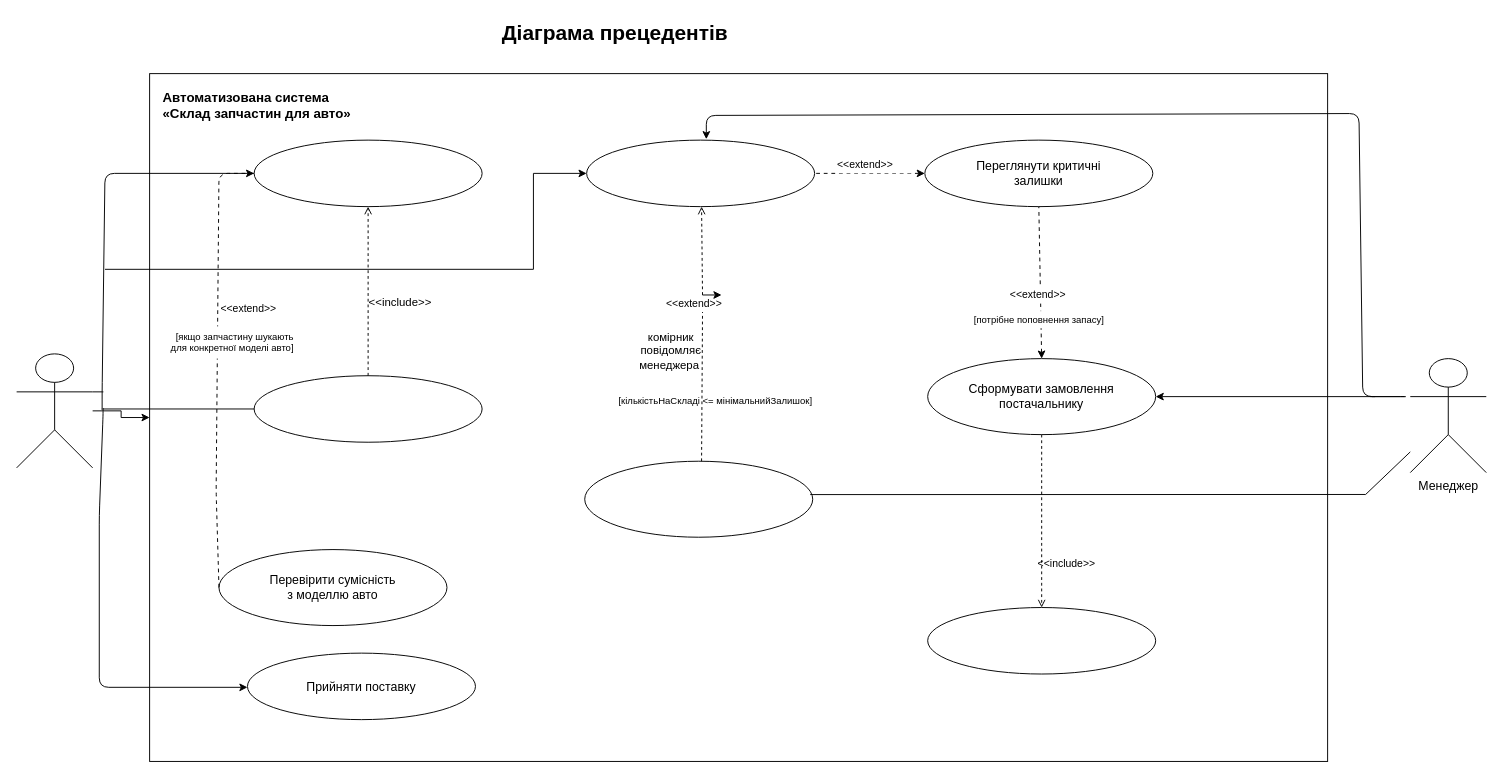
Image size: 1503x778. Some labels were removed from this diagram. The box of each missing label's shape, as (x1, y1, x2, y2) in pixels:
Видати запчастину: (253, 375, 482, 442)
Знайти запчастину: (253, 139, 482, 207)
Комірник: (16, 353, 93, 468)
Обрати постачальника: (927, 607, 1156, 674)
Переглянути залишки: (586, 139, 815, 207)
Повідомити менеджера про критичний залишок: (584, 460, 813, 537)
